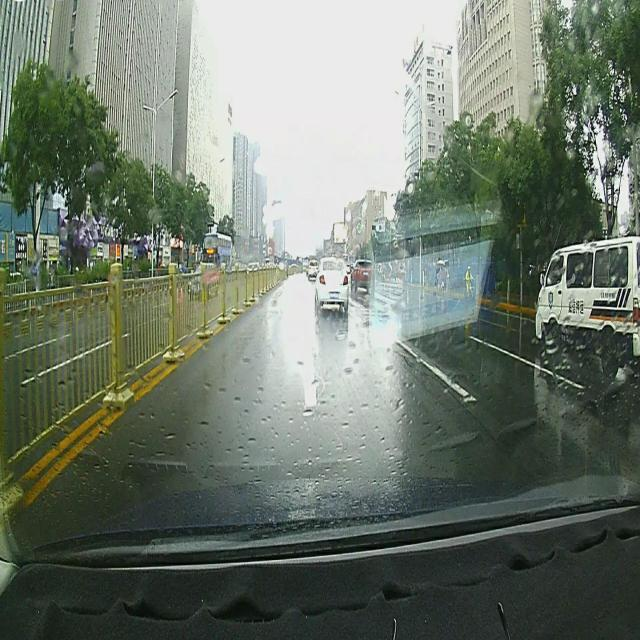car: (533, 238, 639, 361), (314, 252, 350, 314), (350, 258, 376, 292), (306, 260, 318, 276)
